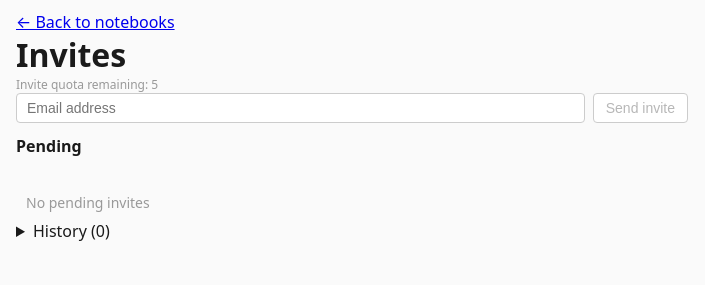
Test: InvitesPage › renders "no invites remaining" on a 403 response
Type "new@example.com" into the field with placeholder "Email address" at (300, 108), box [16,93,585,123]
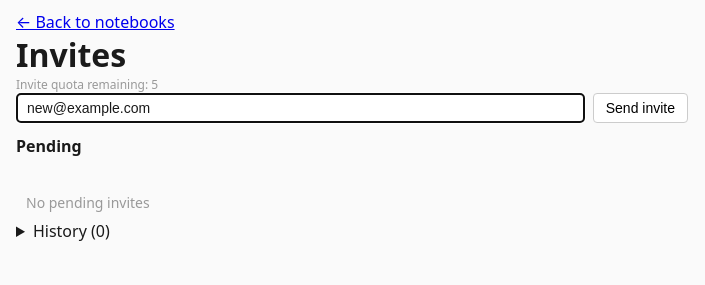
Click the button "Send invite" at (640, 108), box [593,93,688,123]
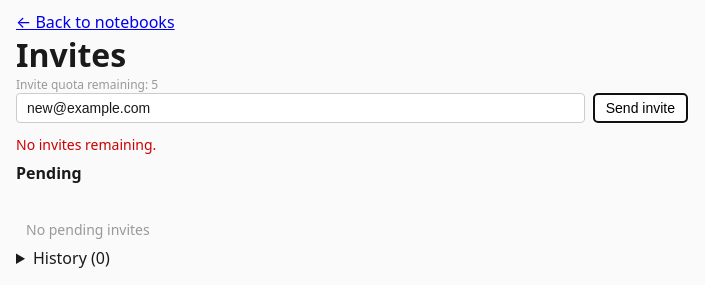
Now the text "No invites remaining." is shown, box [16,135,156,154]
